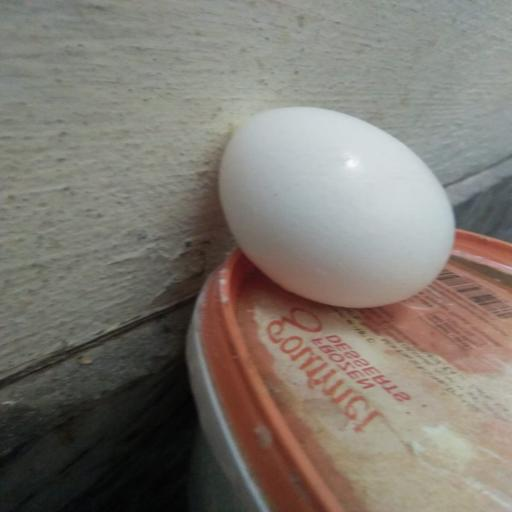telur: (220, 107, 455, 308)
